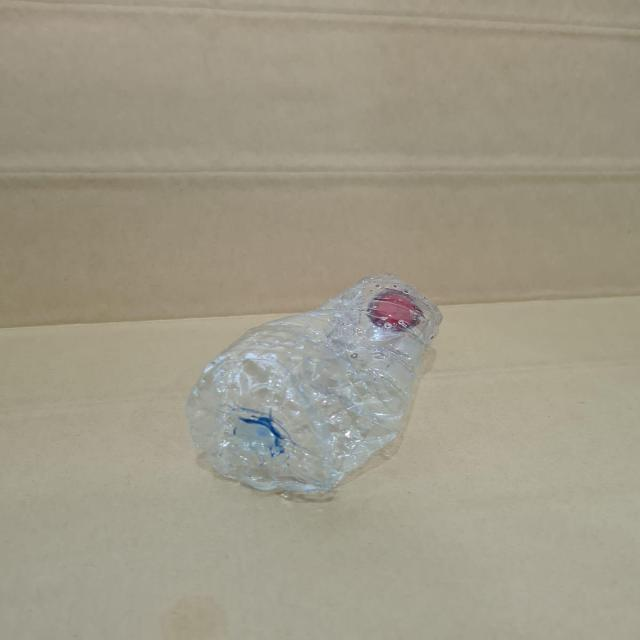bottle: (188, 286, 462, 498)
